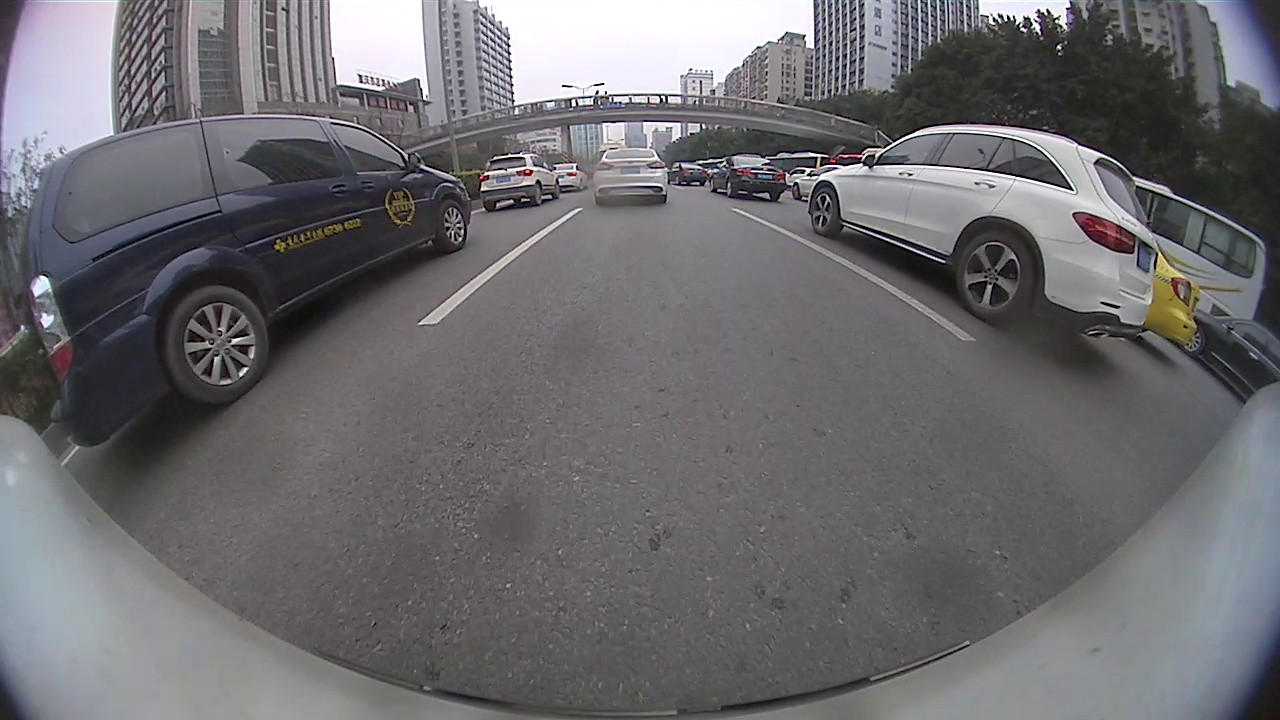bus: (1131, 176, 1269, 322)
car: (21, 119, 472, 445), (810, 122, 1160, 337), (1192, 311, 1276, 406), (1142, 254, 1197, 343), (591, 148, 668, 206), (483, 153, 561, 209), (709, 155, 791, 205)
front: (434, 198, 468, 254), (809, 188, 842, 235), (1181, 324, 1206, 354)
rear: (165, 286, 271, 404), (952, 230, 1039, 327), (532, 183, 543, 206)
